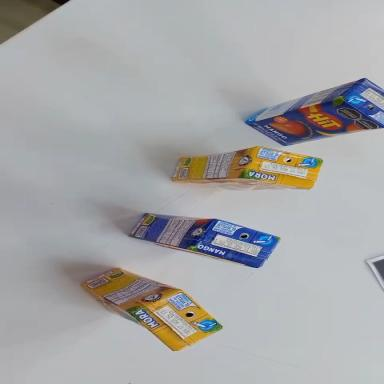HIT-MANGO: (129, 196, 280, 277), (242, 75, 384, 151)
HIT-MORA: (73, 250, 229, 365), (172, 146, 323, 190)
cara_F: (245, 92, 383, 152)
